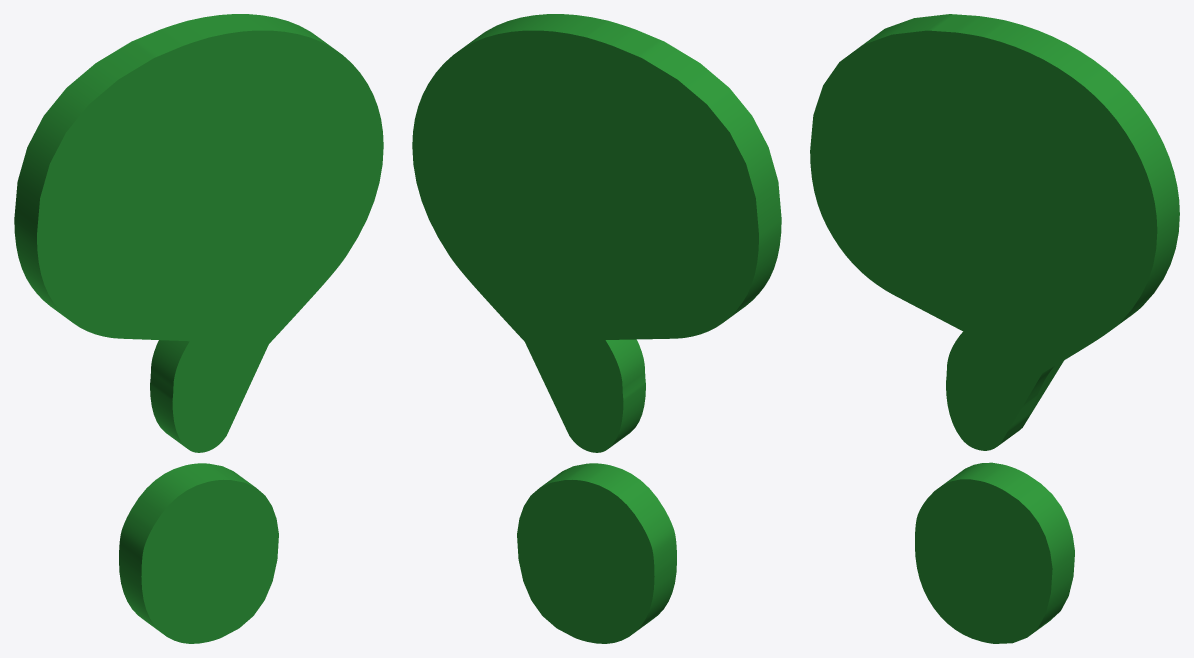
The model's file is Question.fbx.
3 views of the same model, side by side, from view 1: azimuth 30°, elevation 25°; view 2: azimuth 150°, elevation 25°; view 3: azimuth 330°, elevation 25° (orthographic).
Visible parts, largest first — view 1: polySurface1; view 2: polySurface1; view 3: polySurface1.
Part boxes in pixels (box(x1,y1,x2,y2)): polySurface1: box(14, 14, 383, 643); polySurface1: box(412, 14, 781, 643); polySurface1: box(810, 14, 1179, 643).
Bounding box in the file's own units: 0.3536 × 0.5887 × 0.0398.
